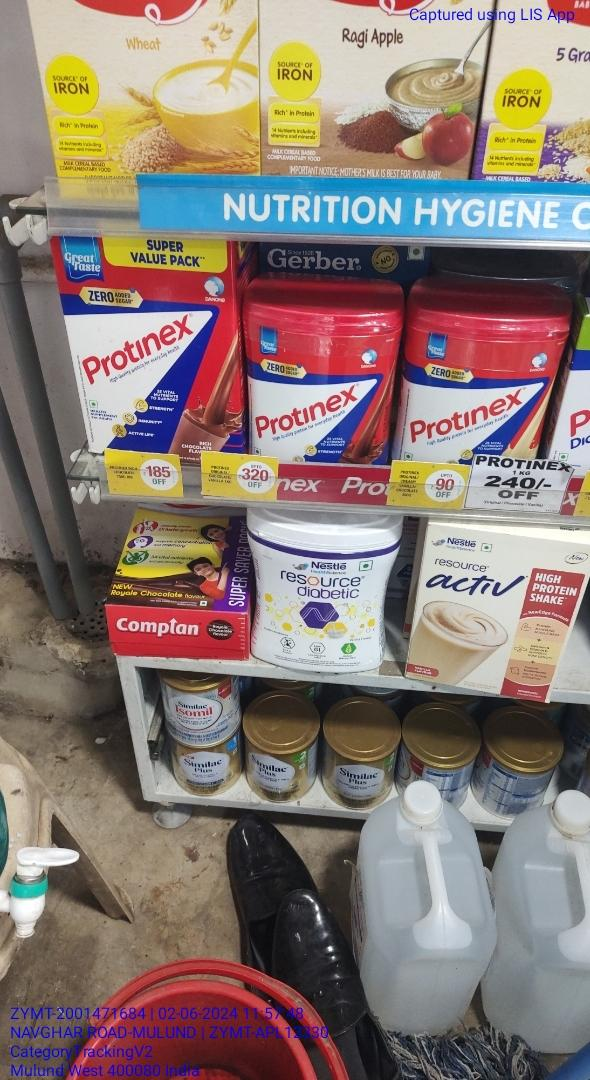PROTINEX_CHOCOLATE_400_G_JAR: (244, 301, 388, 469)
PROTINEX_VANILLA_400_G_JAR: (407, 308, 556, 475)
